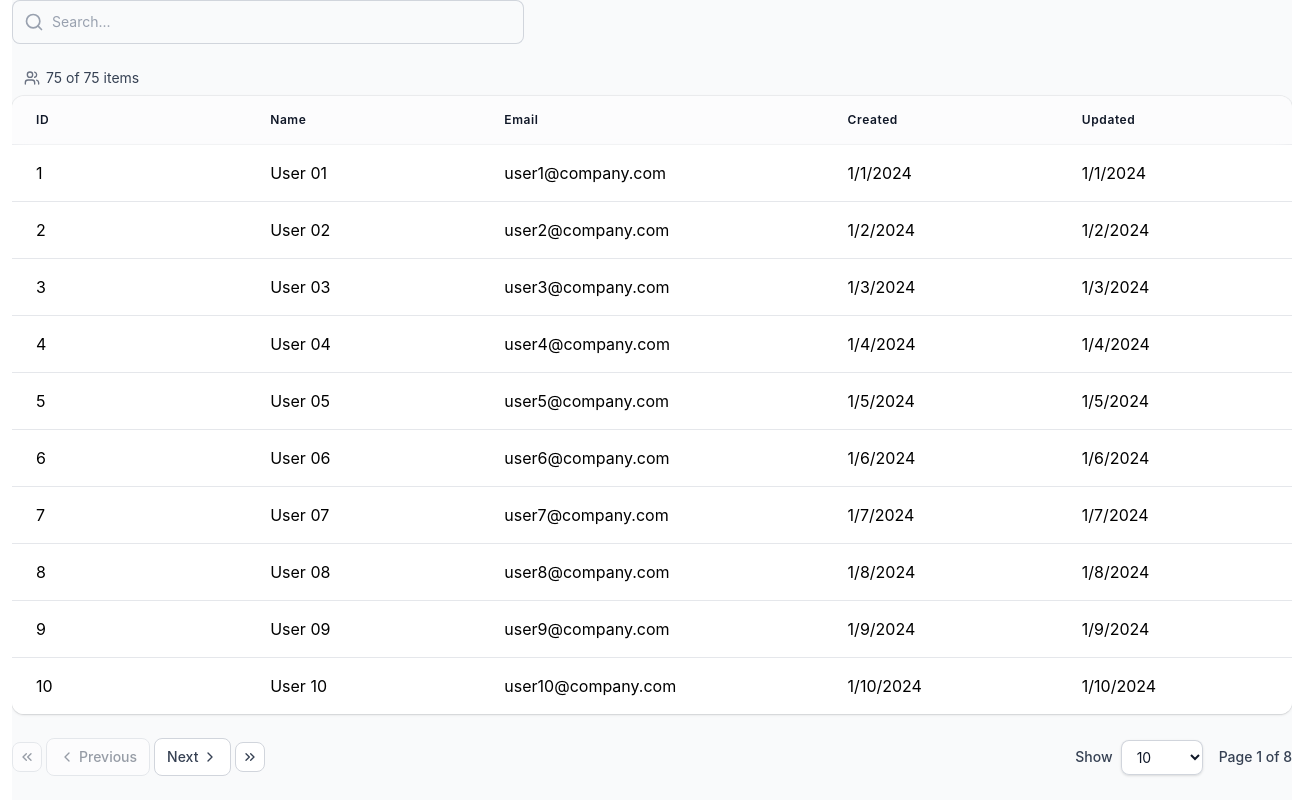
GenericDataTable Integration Tests › Pagination Functionality › changes page size and recalculates pagination
This screenshot has width=1304, height=800.
Expected: the text "Page 1 of 8" is shown, 1219,748 -> 1292,765
Note: Change to 20 per page
Select "20" in the dropdown labelled "Show" at (1162, 757), box 1121,740 -> 1203,774
(page scrolled)
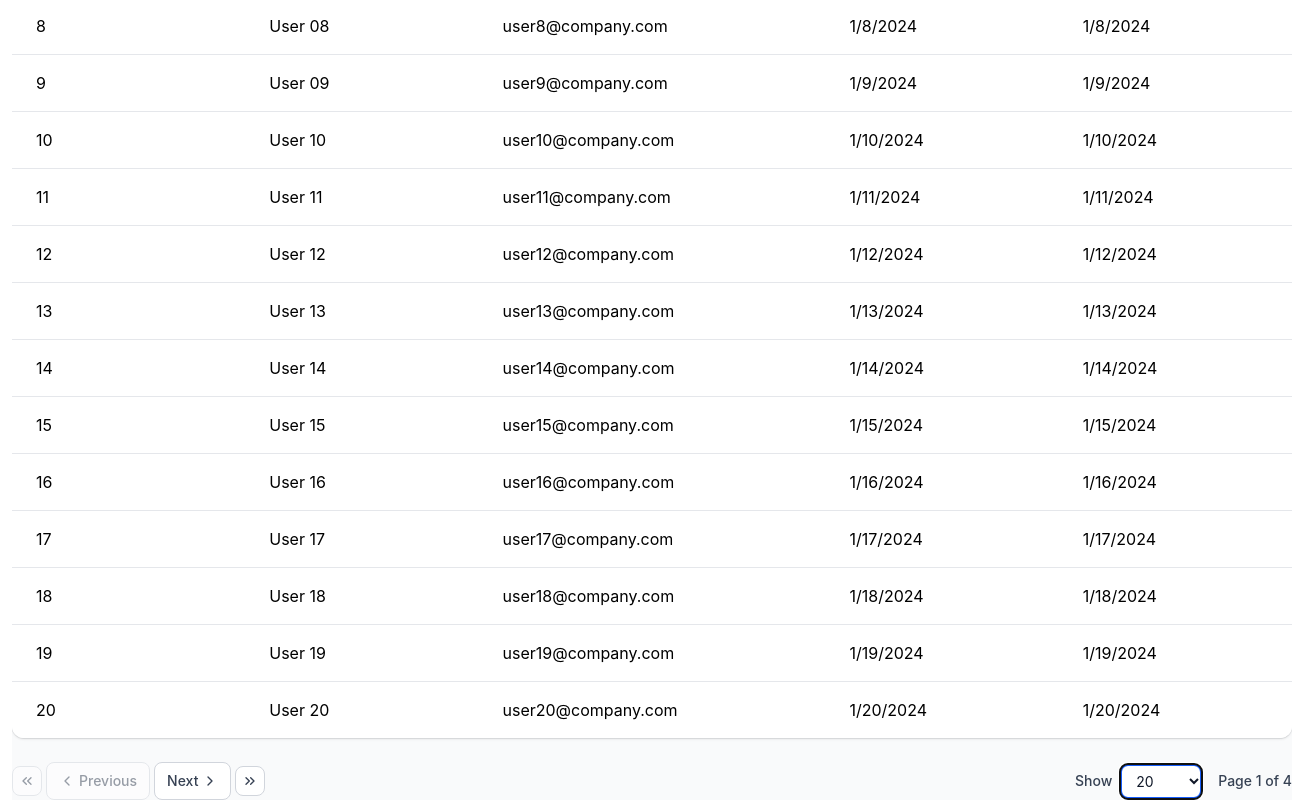
Expected: the text "Page 1 of 4" is shown, 1218,772 -> 1292,789
Expected: the text "User 20" is shown, 245,682 -> 479,738
